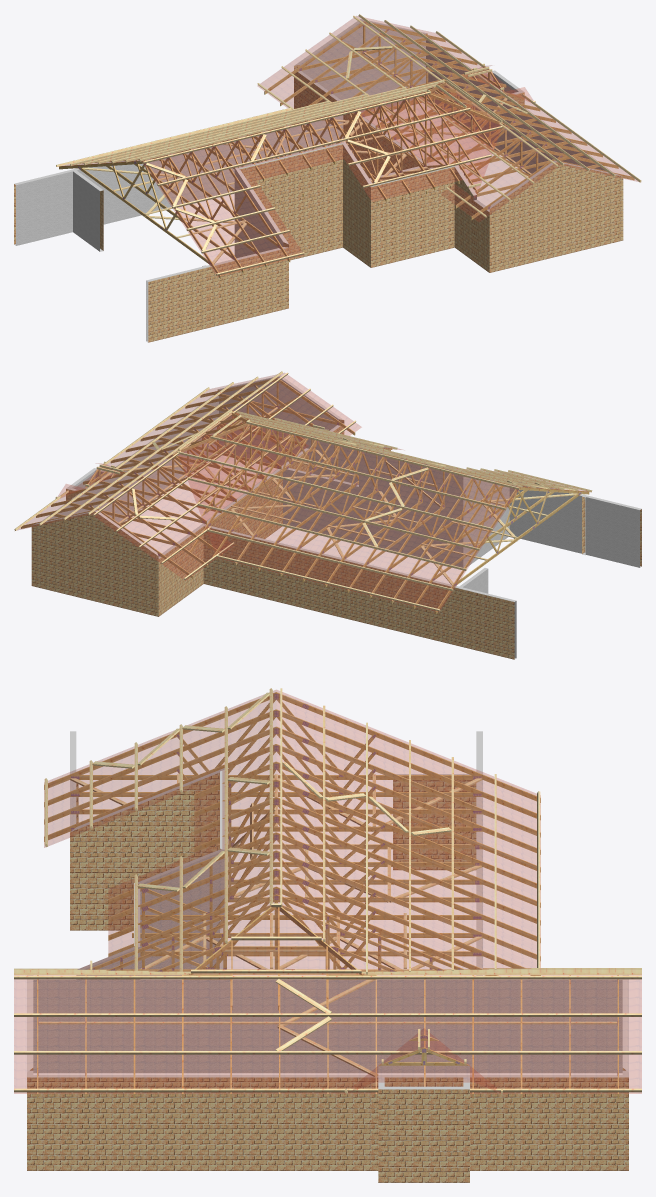
The picture shows the model from 3 angles, top to bottom: view 1: azimuth 30°, elevation 25°; view 2: azimuth 150°, elevation 25°; view 3: azimuth 270°, elevation 25°; orthographic projection. The views are drawn at different scales.
Parts seen in each view (by area): view 1: Object_4, Object_5, Object_6, Object_3, Object_7, Object_2; view 2: Object_4, Object_5, Object_6, Object_3, Object_7, Object_2; view 3: Object_4, Object_5, Object_6, Object_3, Object_7, Object_2.
Part boxes in pixels (x1=…): Object_4: x1=59, y1=16, x2=638, y2=276; Object_5: x1=14, y1=33, x2=623, y2=342; Object_6: x1=14, y1=19, x2=621, y2=342; Object_3: x1=59, y1=21, x2=634, y2=278; Object_7: x1=56, y1=14, x2=641, y2=275; Object_2: x1=78, y1=22, x2=602, y2=265; Object_4: x1=17, y1=373, x2=587, y2=611; Object_5: x1=31, y1=389, x2=641, y2=659; Object_6: x1=33, y1=375, x2=641, y2=659; Object_3: x1=21, y1=378, x2=589, y2=614; Object_7: x1=14, y1=371, x2=592, y2=611; Object_2: x1=51, y1=379, x2=581, y2=586; Object_4: x1=14, y1=690, x2=641, y2=1094; Object_5: x1=27, y1=772, x2=628, y2=1182; Object_6: x1=27, y1=731, x2=628, y2=1089; Object_3: x1=37, y1=692, x2=618, y2=1098; Object_7: x1=14, y1=688, x2=641, y2=1093; Object_2: x1=38, y1=694, x2=617, y2=1075.
Bounding box in the file's own units: 1 × 0.2374 × 0.7415.
6 materials, 6 textured.
